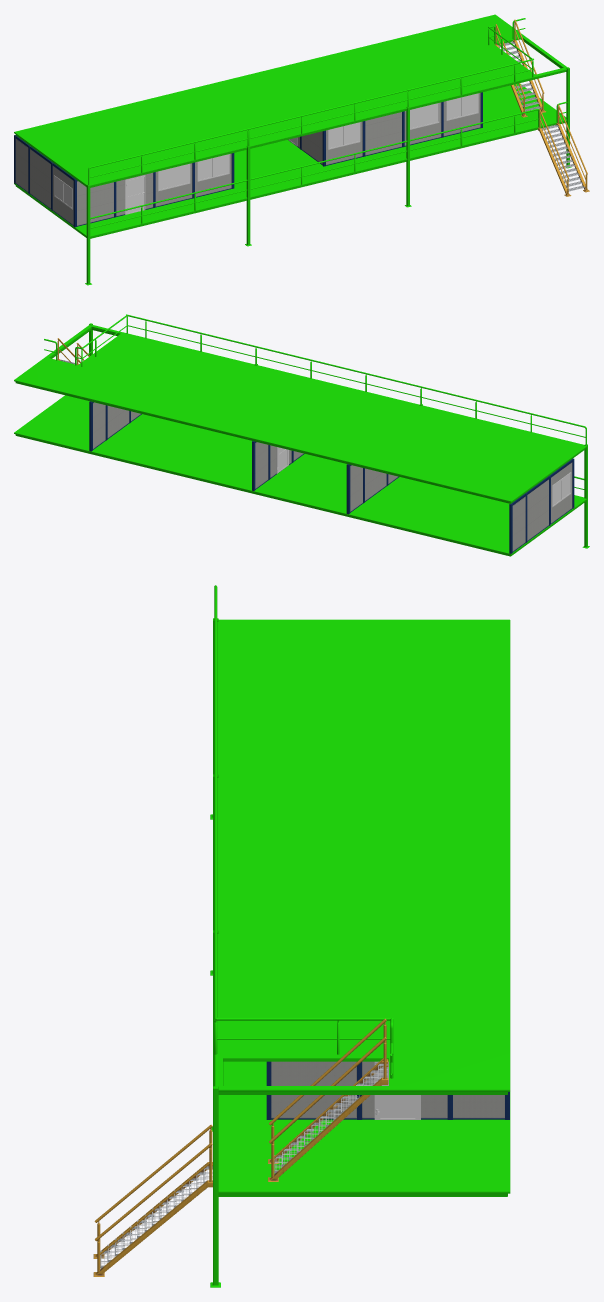
Rendered from Mezzanine1.fbx.
3 views of the same model, one above another, from view 1: azimuth 30°, elevation 25°; view 2: azimuth 150°, elevation 25°; view 3: azimuth 270°, elevation 25° (orthographic). The views are drawn at different scales.
Parts seen in each view (by area): view 1: MagazineMezzainePlatform_001, MagazineMezzainePlatform, MagazineMezzaineBarriers_001, MagazineMezzaineBarriers, MagazineStairs, MagazineMezzaine, Wall, Wall_007, MagazineStairs.001, Wall_005.001, Wall_013, Wall_002 (+14 smaller); view 2: MagazineMezzainePlatform_001, MagazineMezzainePlatform, MagazineMezzaineBarriers_001, Wall_005.001, Wall_006.001, Wall_004.001, Wall_006, Wall_012.001, Wall_012, Wall_011.001, Wall_005, MagazineMezzaine (+2 smaller); view 3: MagazineMezzainePlatform_001, MagazineMezzainePlatform, MagazineStairs, MagazineStairs.001, Wall_010.001, MagazineMezzaine, MagazineMezzaineBarriers_001, Wall_012.001, Door.002, Wall_011.001, MagazineMezzaineBarriers_001.001.
Part boxes in pixels (x1=…): MagazineMezzainePlatform_001: x1=14, y1=14, x2=567, y2=187; MagazineMezzainePlatform: x1=14, y1=83, x2=566, y2=238; MagazineMezzaineBarriers_001: x1=88, y1=58, x2=533, y2=185; MagazineMezzaineBarriers: x1=90, y1=101, x2=567, y2=228; MagazineStairs: x1=538, y1=104, x2=589, y2=196; MagazineMezzaine: x1=85, y1=67, x2=571, y2=285; Wall: x1=73, y1=178, x2=116, y2=227; Wall_007: x1=365, y1=111, x2=404, y2=156; MagazineStairs.001: x1=495, y1=19, x2=545, y2=117; Wall_005.001: x1=28, y1=145, x2=51, y2=209; Wall_013: x1=322, y1=121, x2=365, y2=166; Wall_002: x1=155, y1=162, x2=194, y2=207; MagazineMezzainePlatform_001: x1=14, y1=325, x2=586, y2=503; MagazineMezzainePlatform: x1=14, y1=395, x2=586, y2=556; MagazineMezzaineBarriers_001: x1=126, y1=314, x2=586, y2=444; Wall_005.001: x1=525, y1=476, x2=549, y2=542; Wall_006.001: x1=509, y1=493, x2=525, y2=553; Wall_004.001: x1=548, y1=459, x2=572, y2=525; Wall_006: x1=346, y1=464, x2=363, y2=514; Wall_012.001: x1=89, y1=401, x2=105, y2=451; Wall_012: x1=252, y1=441, x2=268, y2=490; Wall_011.001: x1=105, y1=405, x2=129, y2=440; Wall_005: x1=363, y1=468, x2=386, y2=503; MagazineMezzaine: x1=89, y1=323, x2=589, y2=548; MagazineMezzainePlatform_001: x1=215, y1=619, x2=510, y2=1094; MagazineMezzainePlatform: x1=218, y1=1061, x2=510, y2=1196; MagazineStairs: x1=93, y1=1124, x2=212, y2=1276; MagazineStairs.001: x1=268, y1=1018, x2=388, y2=1181; Wall_010.001: x1=271, y1=1061, x2=361, y2=1119; MagazineMezzaine: x1=210, y1=618, x2=220, y2=1287; MagazineMezzaineBarriers_001: x1=214, y1=585, x2=217, y2=1054; Wall_012.001: x1=453, y1=1092, x2=509, y2=1119; Door.002: x1=374, y1=1061, x2=420, y2=1119; Wall_011.001: x1=362, y1=1061, x2=452, y2=1119; MagazineMezzaineBarriers_001.001: x1=215, y1=1017, x2=393, y2=1054.
Size of the model in its own units: 3029 by 711 by 1128.
